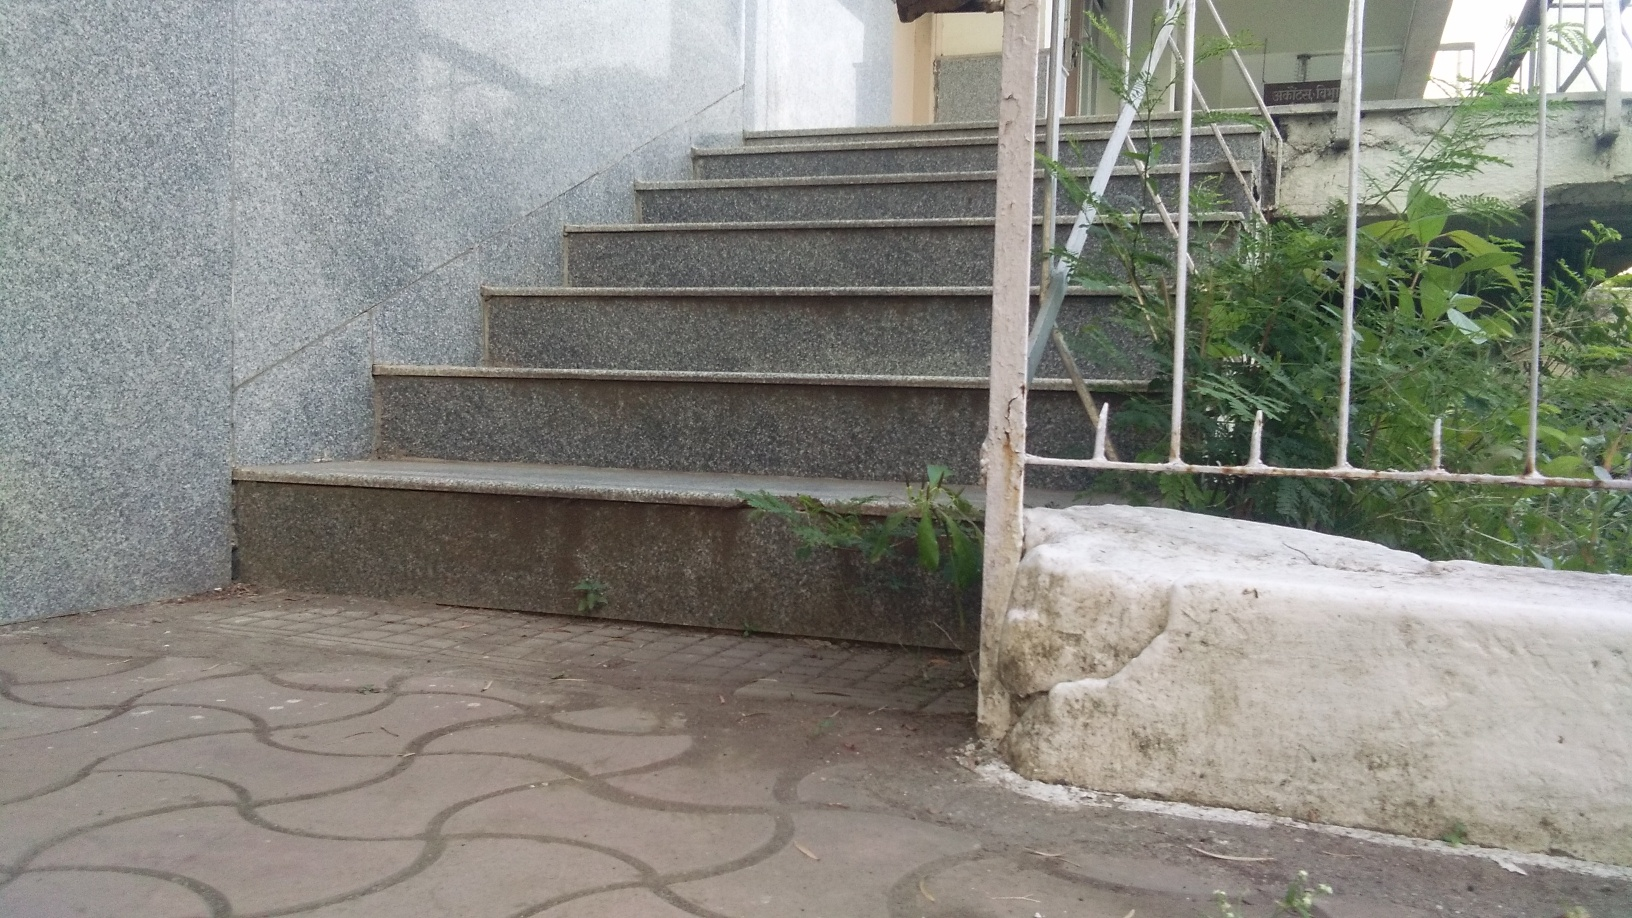stairs_up: (196, 89, 994, 673)
